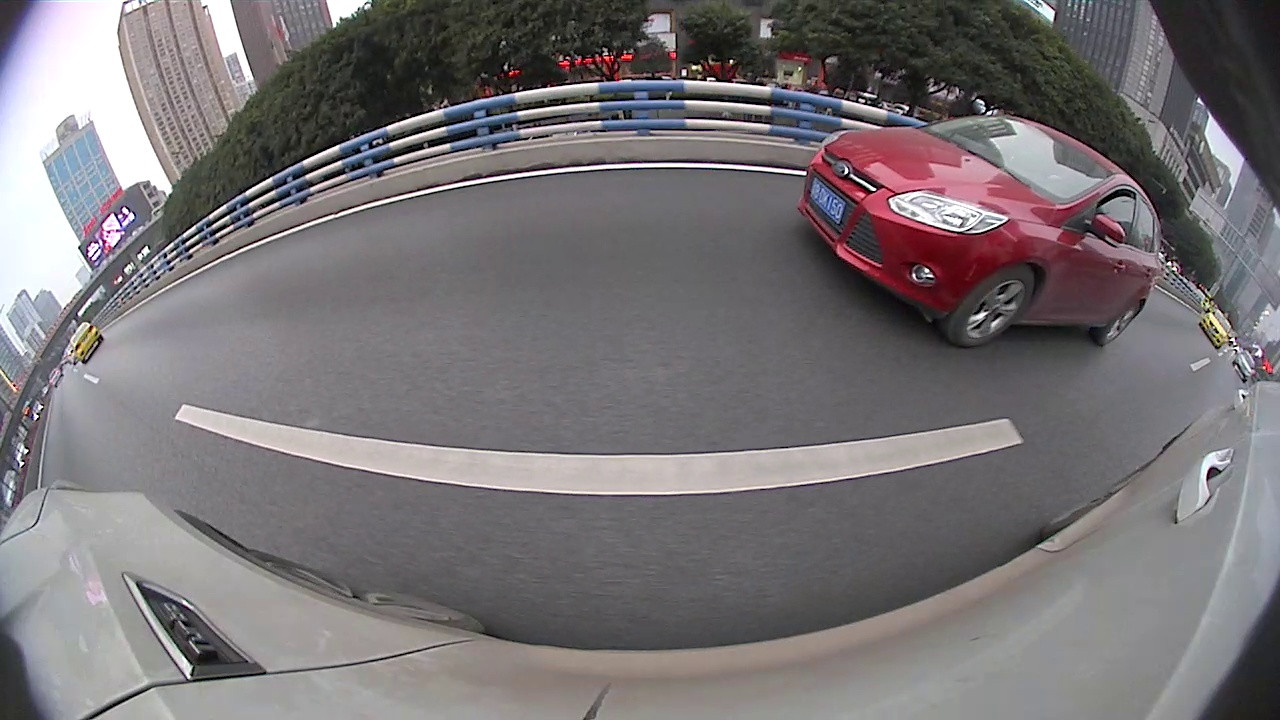car: (875, 166, 1210, 367), (198, 139, 515, 312), (773, 147, 900, 219), (625, 142, 726, 217), (488, 156, 577, 205), (714, 153, 765, 195), (1239, 361, 1279, 399)
front: (883, 207, 918, 255), (492, 190, 512, 234), (777, 178, 791, 207)
rear: (1053, 277, 1123, 353), (358, 224, 416, 303), (821, 190, 844, 218)
